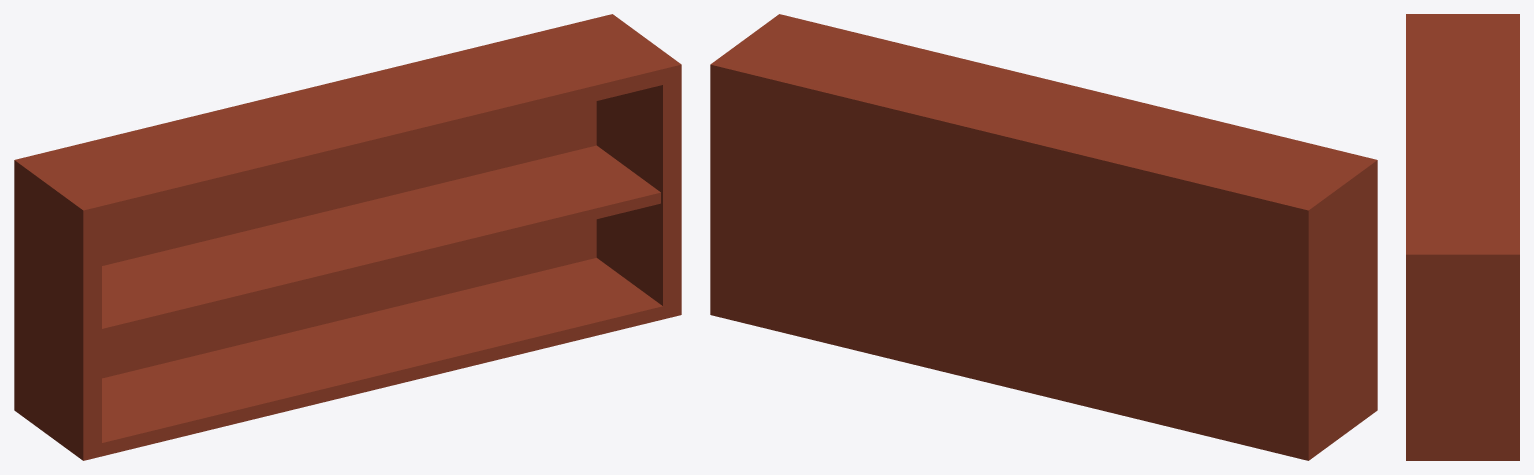
Rendered from .fbx_H_nger.fbx.
3 views of the same model, side by side, from view 1: azimuth 30°, elevation 25°; view 2: azimuth 150°, elevation 25°; view 3: azimuth 270°, elevation 25° (orthographic). The views are drawn at different scales.
Visible parts, largest first — view 1: Hänger; view 2: Hänger; view 3: Hänger.
Part boxes in pixels (x1,y1,x2,y2): Hänger: (14,14,681,460); Hänger: (710,14,1377,460); Hänger: (1406,14,1519,460).
Bounding box in the file's own units: 2 × 0.8 × 0.4.
